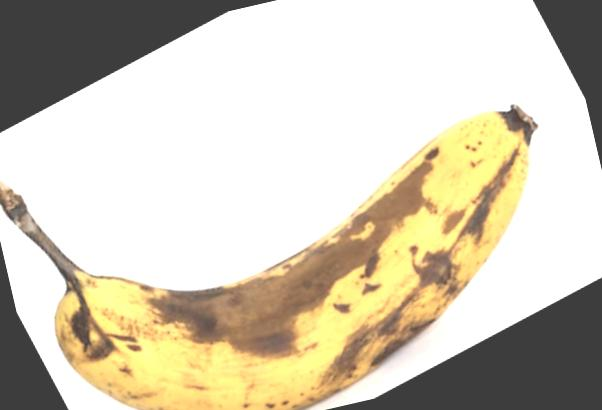Banana Overripe: (0, 5, 595, 410)
